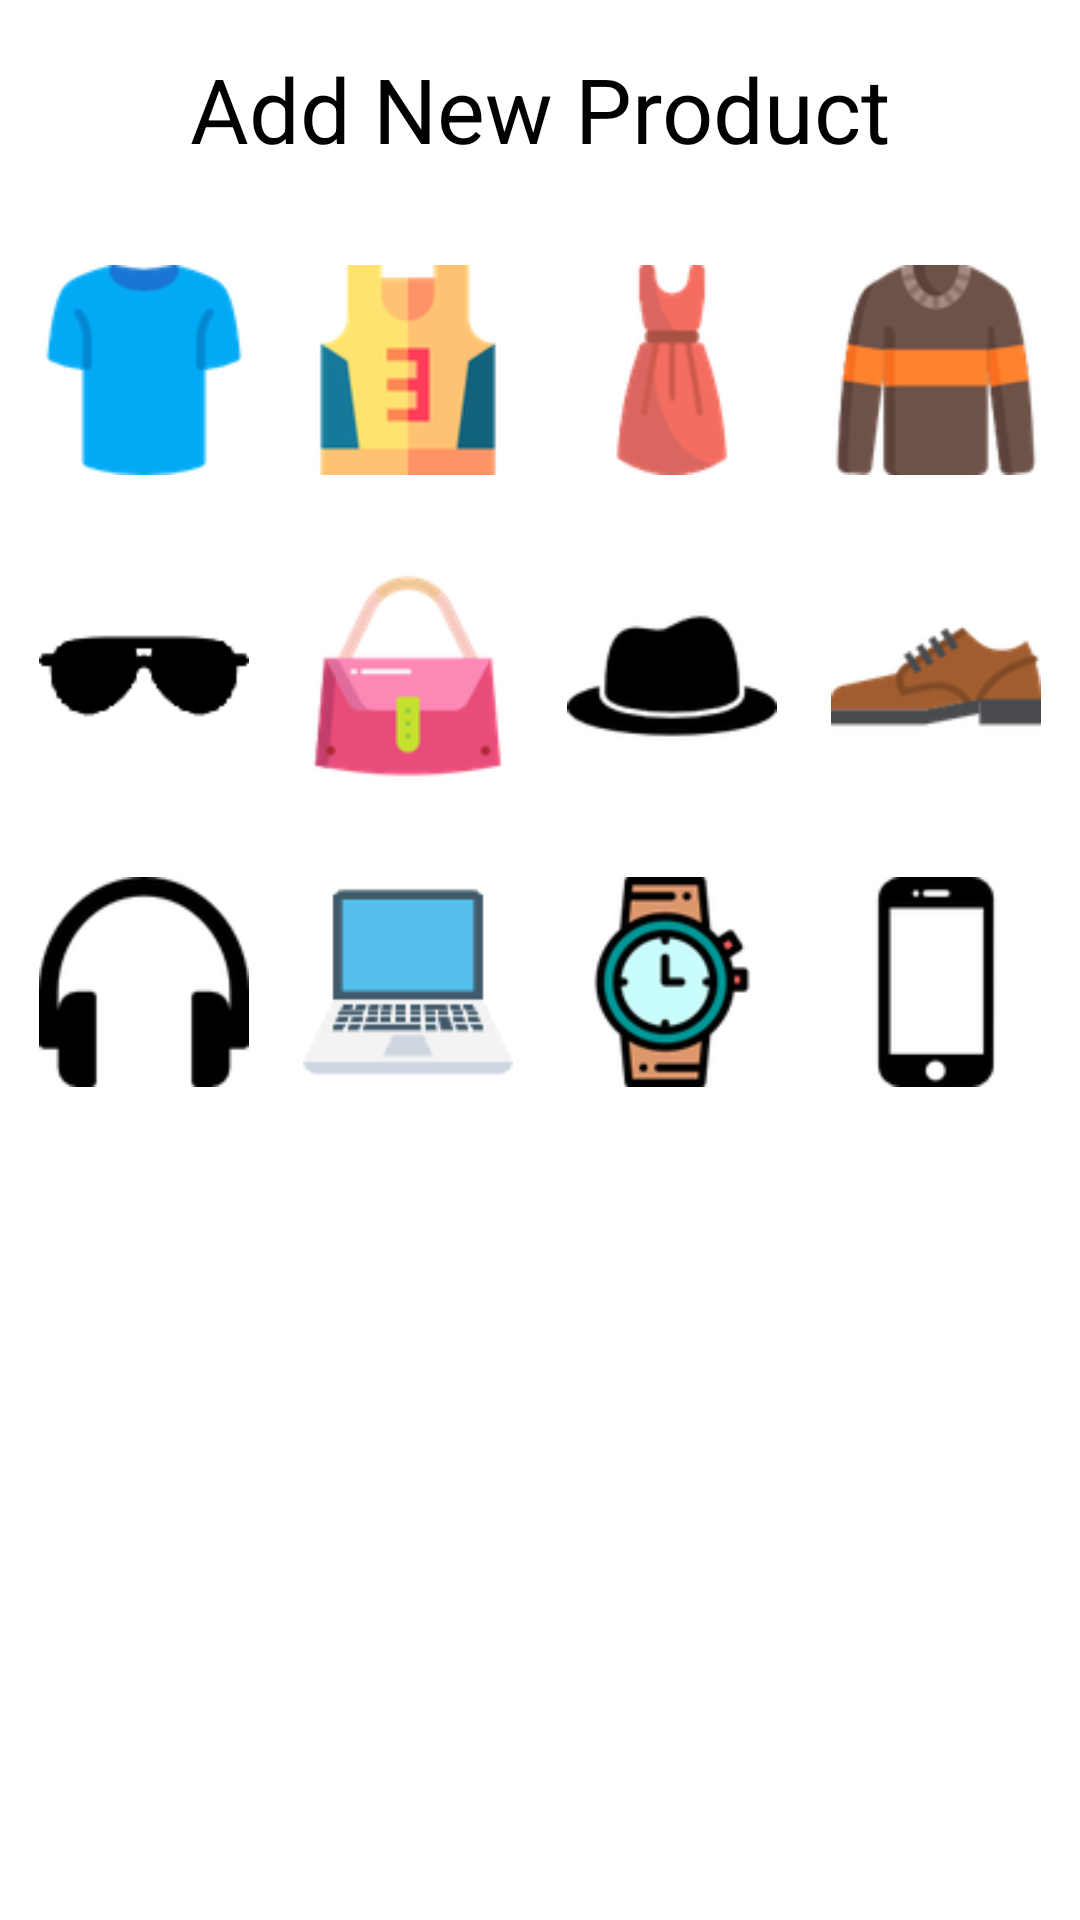

Named icons in this screenshot (1080 x 1920) and their bounding boxes, (x1, y1, x2, y2):
female bag: (314, 576, 501, 777)
female dress: (616, 265, 728, 475)
hat: (567, 615, 777, 737)
headphone: (39, 877, 249, 1087)
laptop: (303, 889, 513, 1074)
male dress: (46, 265, 242, 475)
mobile: (877, 877, 995, 1087)
shoe: (831, 627, 1041, 726)
sports dress: (320, 265, 496, 475)
sunglasses: (39, 635, 249, 717)
watch: (594, 877, 750, 1087)
winter dress: (836, 265, 1036, 475)
